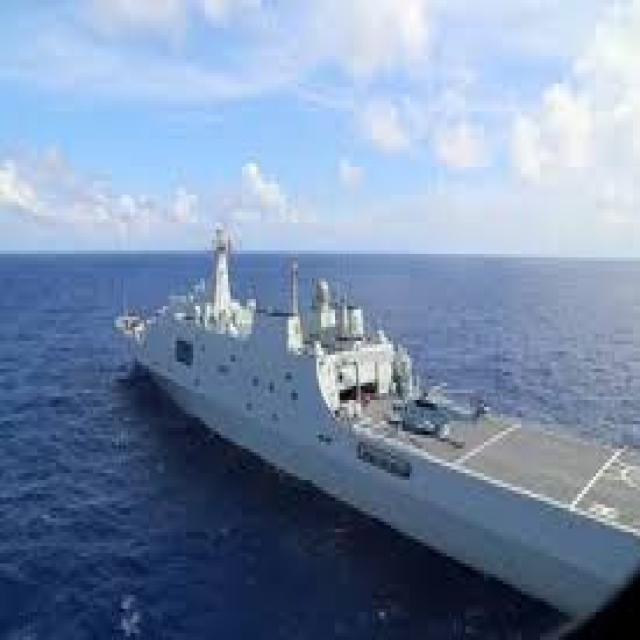navalvessels: (129, 226, 631, 605)
